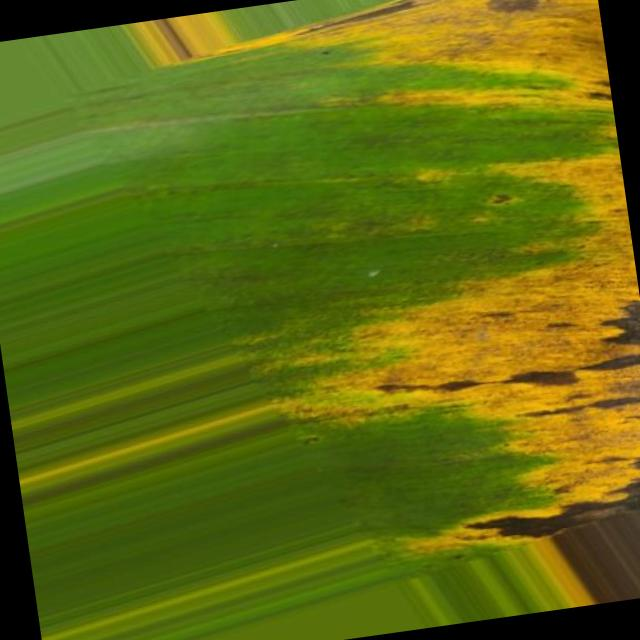Banana_Black_Sigatoka: (279, 0, 640, 576)
